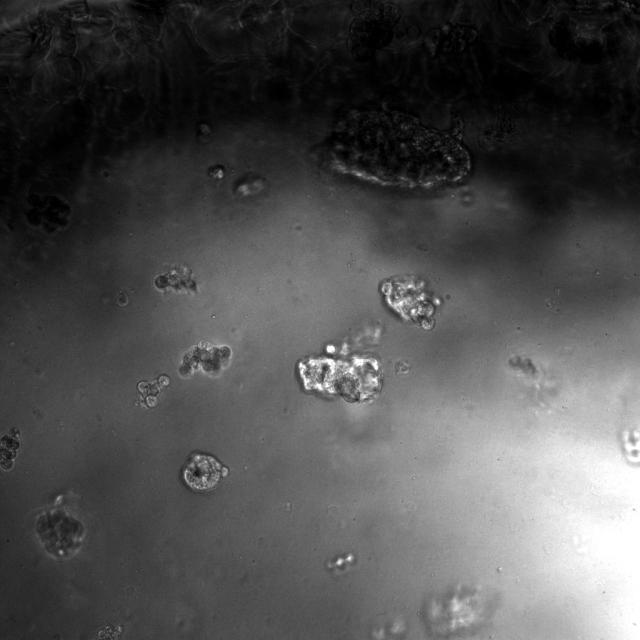organoid: (322, 108, 471, 188), (296, 323, 383, 403), (34, 496, 86, 559), (381, 275, 439, 330), (181, 451, 229, 493), (180, 341, 231, 376), (154, 265, 196, 292), (137, 374, 170, 408), (0, 428, 20, 471), (208, 165, 226, 180)
